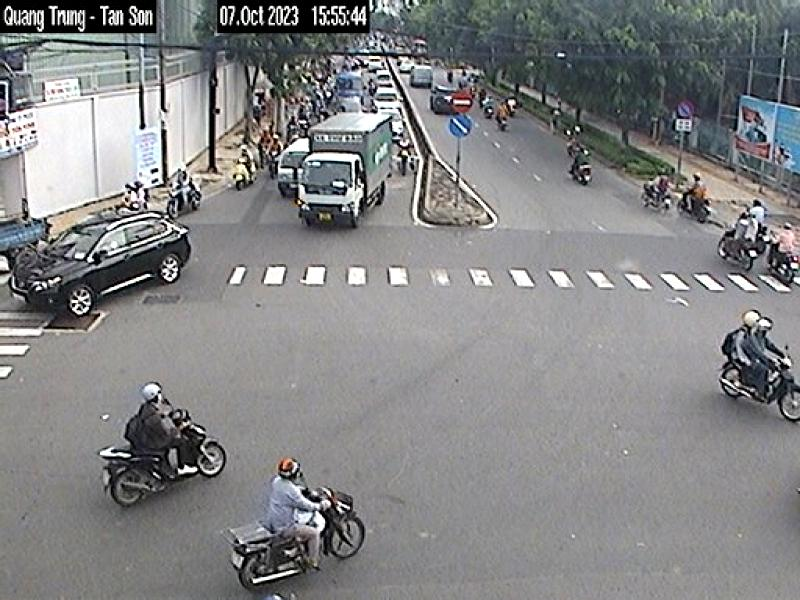car: (7, 223, 195, 316), (278, 137, 312, 197)
motorcycle: (227, 490, 366, 591), (101, 416, 227, 507), (721, 353, 800, 424)
truck: (300, 113, 392, 228)
